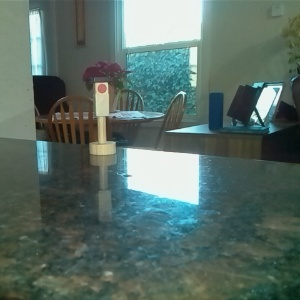traffic light red: (85, 74, 118, 157)
